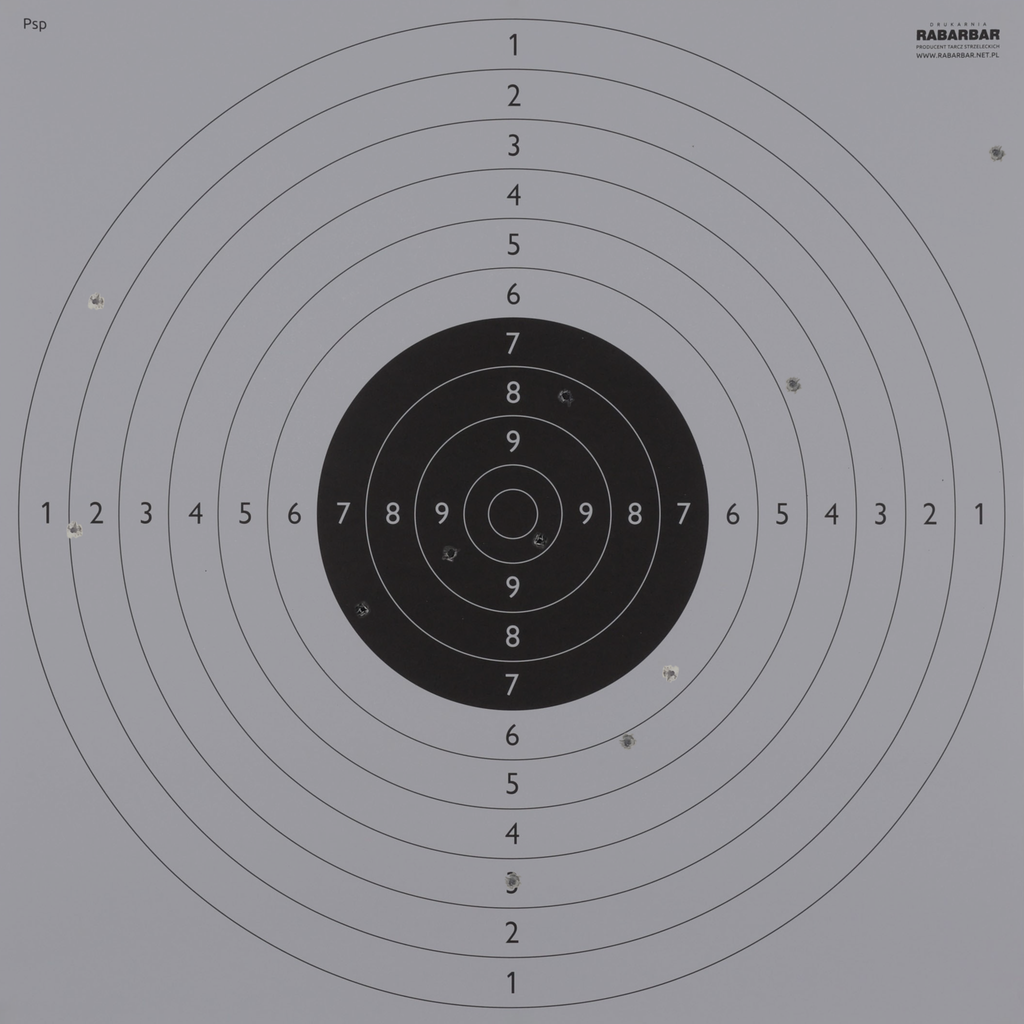0 punktow: (987, 144, 1006, 162)
1 punkt: (87, 292, 105, 311)
10 punktow: (530, 532, 549, 550)
2 punkty: (65, 521, 83, 539)
3 punkty: (503, 873, 522, 891)
4 punkty: (784, 375, 802, 393)
5 punktow: (618, 733, 637, 751)
6 punktow: (662, 664, 680, 683)
7 punktow: (354, 600, 373, 619)
8 punktow: (557, 387, 575, 406)
9 punktow: (442, 544, 460, 563)
